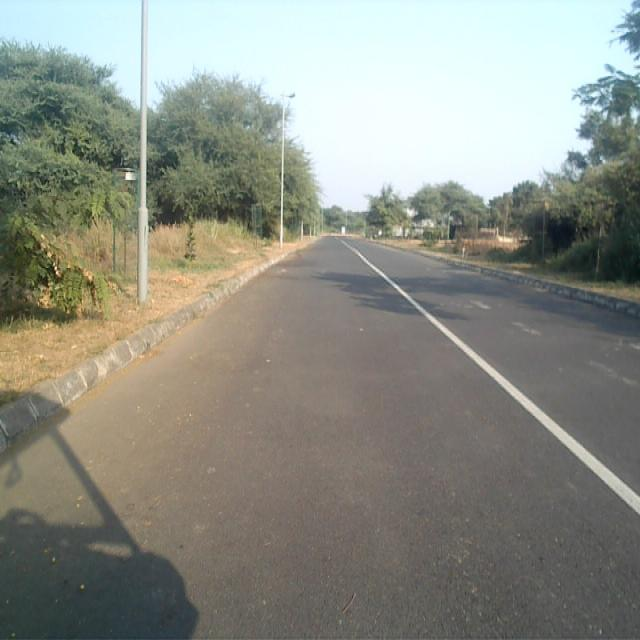lane: (0, 240, 640, 640)
